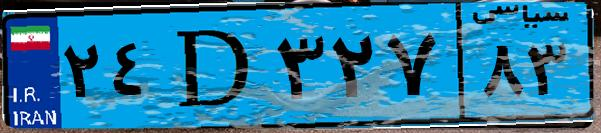2: (330, 28, 385, 110), (57, 26, 110, 100)
3: (270, 28, 330, 110), (525, 38, 570, 115)
4: (110, 28, 158, 98)
7: (385, 28, 445, 110)
8: (475, 38, 525, 113)
D: (158, 12, 270, 120)
